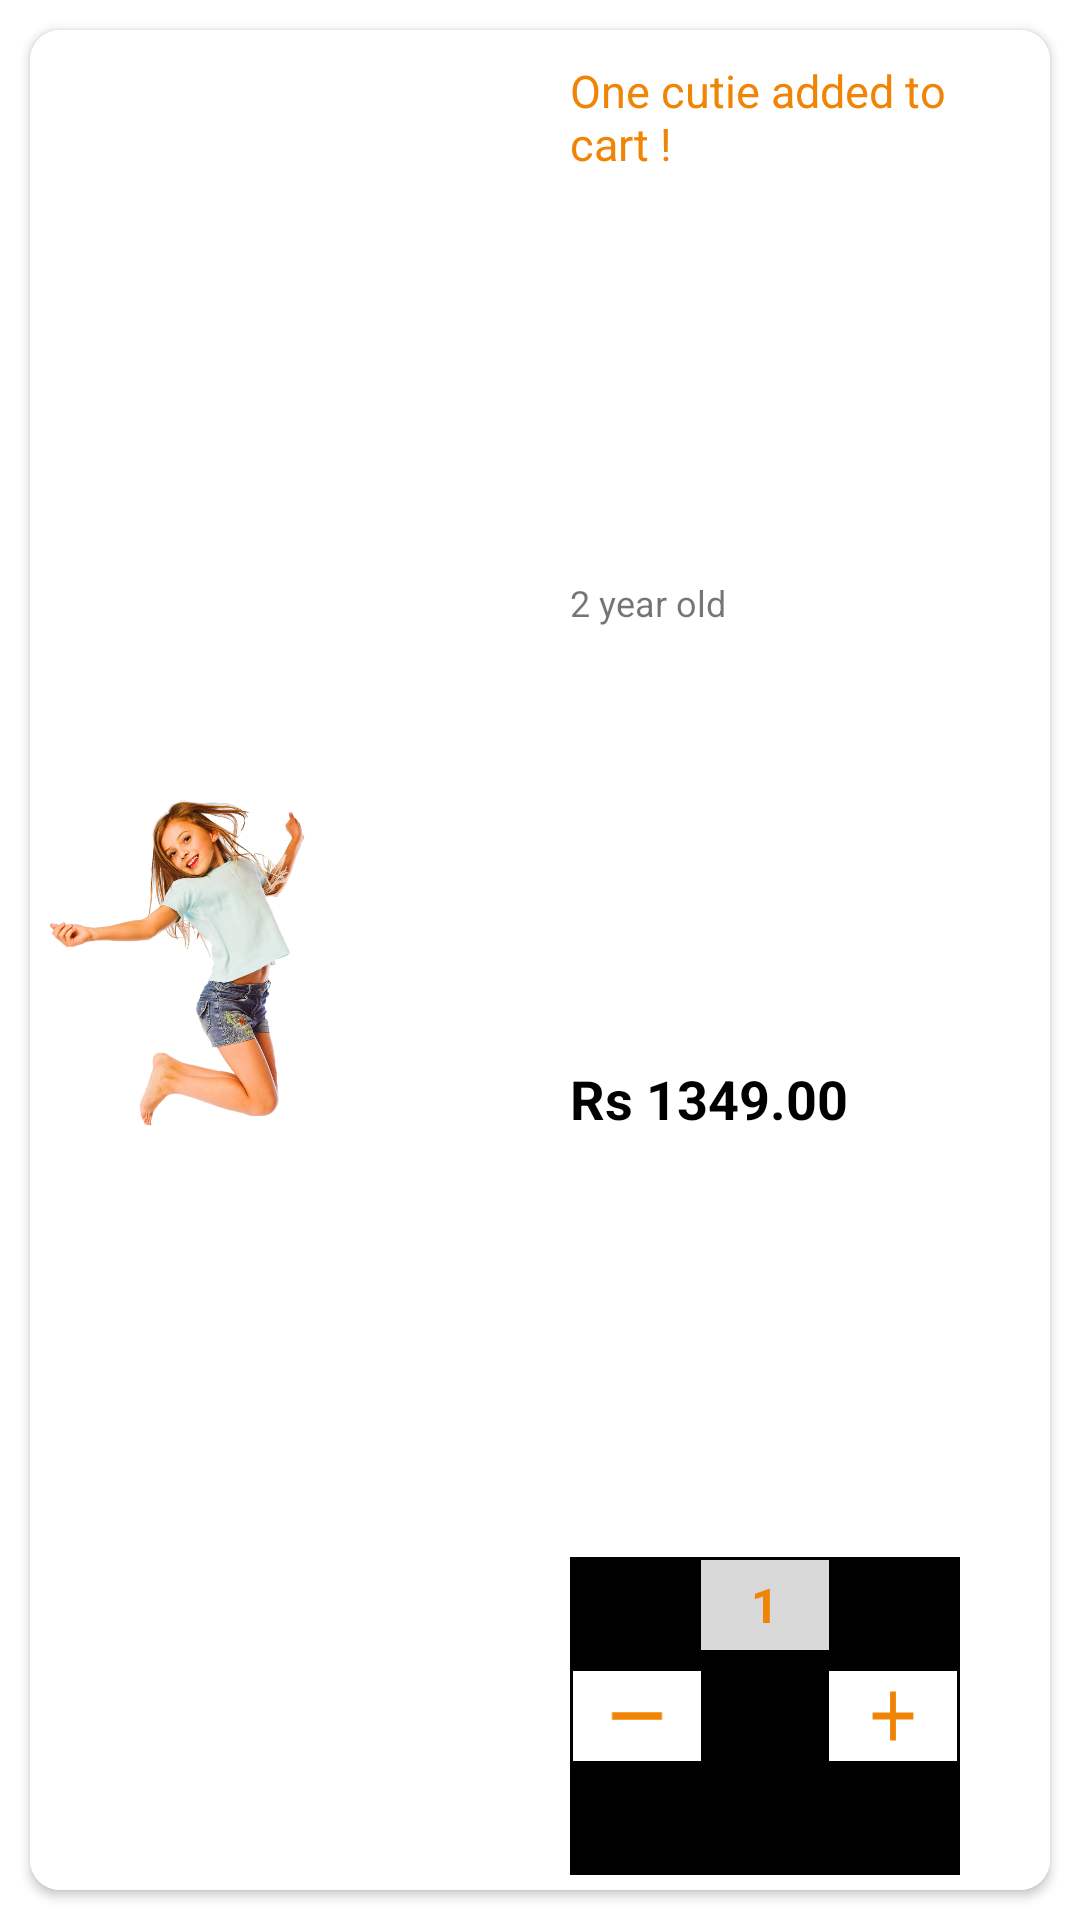

Named icons in this screenshot (1080x1920) and their bounding boxes, bbox=(x1, y1, x2, y2):
decrement: bbox=(573, 1671, 701, 1761)
increment: bbox=(829, 1671, 957, 1761)
kids category: bbox=(50, 801, 304, 1125)
